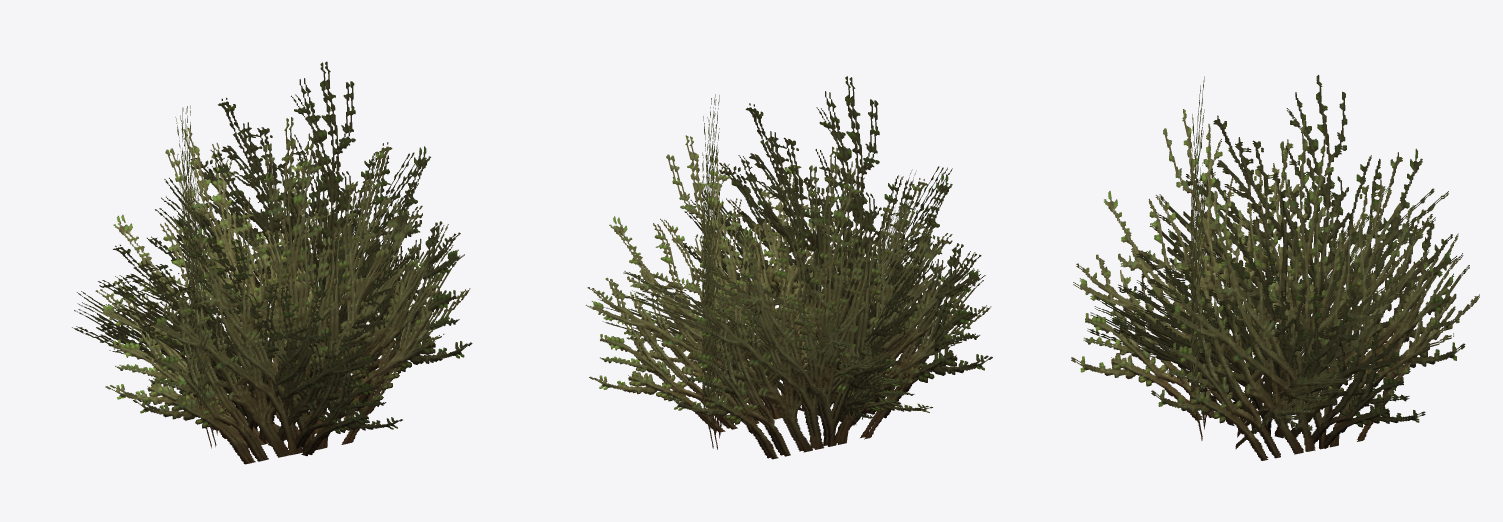
File: GM_guanmu001_004.FBX
The picture shows the model from 3 angles, left to right: view 1: azimuth 30°, elevation 25°; view 2: azimuth 150°, elevation 25°; view 3: azimuth 270°, elevation 25°; orthographic projection. The views are drawn at different scales.
Visible parts, largest first — view 1: GM_巴陵灌木001_004; view 2: GM_巴陵灌木001_004; view 3: GM_巴陵灌木001_004.
Boxes of the visible parts, x1=… form: GM_巴陵灌木001_004: x1=72, y1=61, x2=472, y2=464; GM_巴陵灌木001_004: x1=585, y1=76, x2=992, y2=459; GM_巴陵灌木001_004: x1=1071, y1=75, x2=1479, y2=460.
Size of the model in its own units: 120 by 101 by 115.
